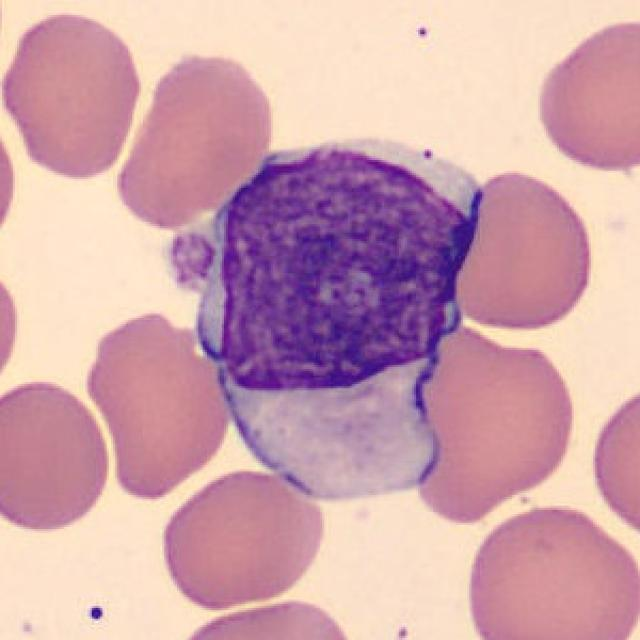White Blood Cell: (199, 144, 480, 497), (171, 234, 214, 289)
